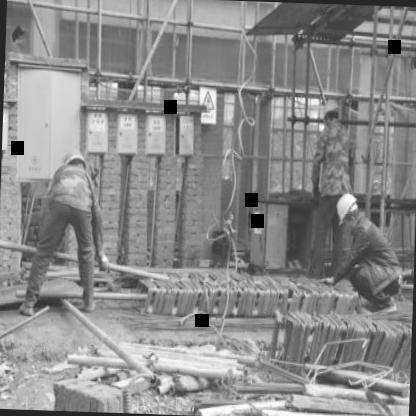helmet: (334, 190, 362, 232), (57, 148, 87, 184), (320, 92, 342, 128)
